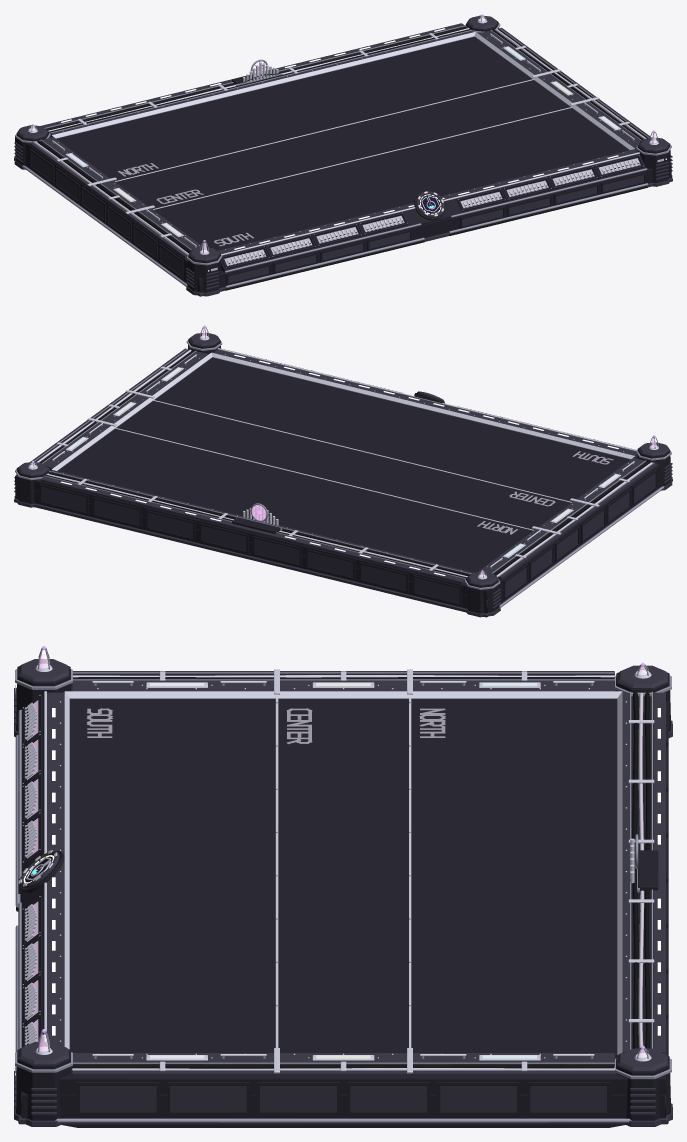
The model's file is cantor.glb.
3 views of the same model, one above another, from view 1: azimuth 30°, elevation 25°; view 2: azimuth 150°, elevation 25°; view 3: azimuth 270°, elevation 25° (orthographic). The views are drawn at different scales.
Visible parts, largest first — view 1: body_board_steel, body_board_panel, body_board_trim_bright, body_board_trim, body_board_rubber, body_board_enamel, body_glow_glass, body_board_ivory, body_accent_glow; view 2: body_board_steel, body_board_panel, body_board_trim_bright, body_board_trim, body_board_rubber, body_board_ivory, body_accent_glow; view 3: body_board_steel, body_board_panel, body_board_trim_bright, body_board_trim, body_board_rubber, body_board_ivory, body_board_enamel, body_glow_glass, body_accent_glow.
Part boxes in pixels (left/top/right/bottom): body_board_steel: left=15, top=18, right=671, bottom=292; body_board_panel: left=14, top=15, right=672, bottom=296; body_board_trim_bright: left=28, top=18, right=658, bottom=268; body_board_trim: left=15, top=15, right=671, bottom=288; body_board_rubber: left=37, top=26, right=647, bottom=290; body_board_enamel: left=223, top=73, right=641, bottom=266; body_glow_glass: left=30, top=16, right=656, bottom=265; body_board_ivory: left=34, top=28, right=663, bottom=271; body_accent_glow: left=61, top=28, right=666, bottom=271; body_board_steel: left=15, top=336, right=671, bottom=613; body_board_panel: left=14, top=332, right=672, bottom=617; body_board_trim_bright: left=28, top=335, right=658, bottom=579; body_board_trim: left=15, top=327, right=671, bottom=607; body_board_rubber: left=39, top=350, right=649, bottom=578; body_board_ivory: left=36, top=349, right=652, bottom=577; body_accent_glow: left=60, top=354, right=618, bottom=575; body_board_steel: left=16, top=666, right=670, bottom=1127; body_board_panel: left=14, top=659, right=672, bottom=1126; body_board_trim_bright: left=18, top=664, right=654, bottom=1073; body_board_trim: left=15, top=648, right=671, bottom=1122; body_board_rubber: left=16, top=677, right=650, bottom=1068; body_board_ivory: left=15, top=675, right=644, bottom=1072; body_board_enamel: left=25, top=699, right=630, bottom=1044; body_glow_glass: left=27, top=651, right=647, bottom=1057; body_accent_glow: left=15, top=683, right=660, bottom=1075.
Size of the model in its own units: 18.87 by 2.48 by 12.87.
